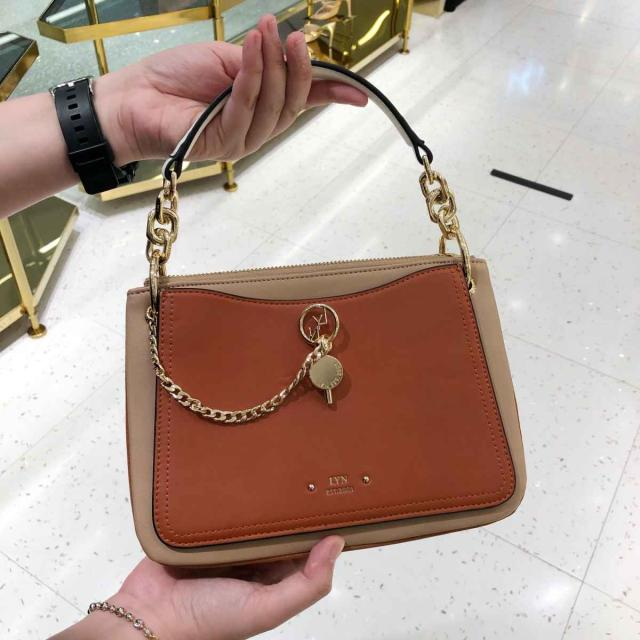handbag: (92, 237, 527, 577)
